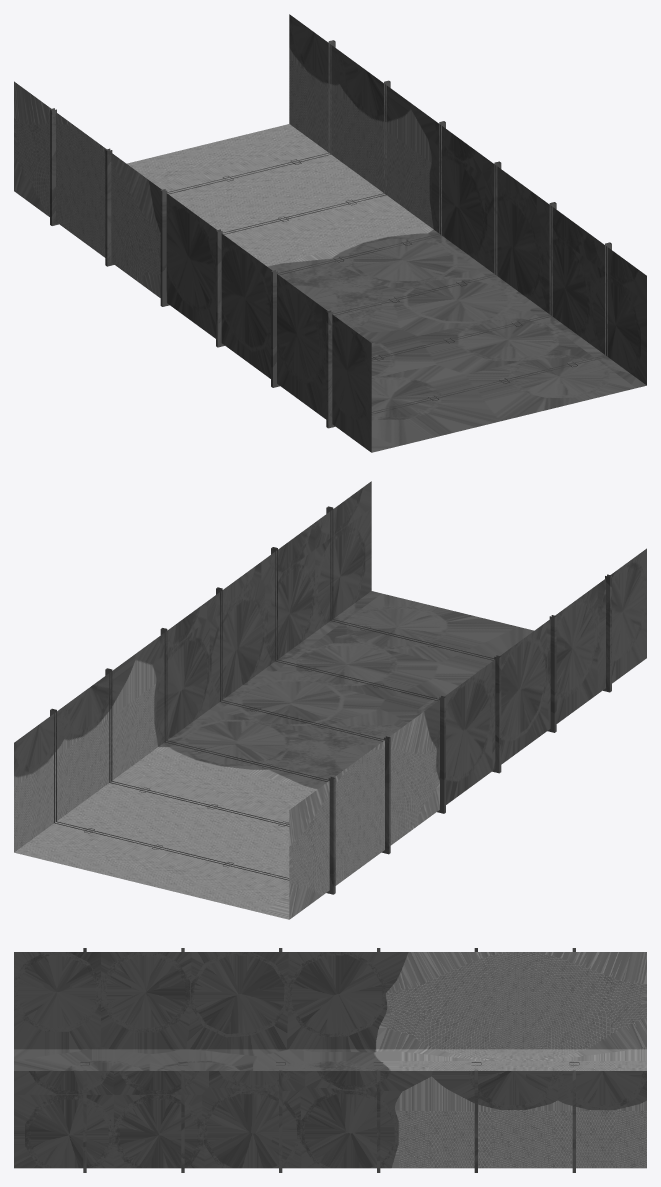
Rendered from vent.fbx.
3 views of the same model, one above another, from view 1: azimuth 30°, elevation 25°; view 2: azimuth 150°, elevation 25°; view 3: azimuth 270°, elevation 25° (orthographic). The views are drawn at different scales.
Parts seen in each view (by area): view 1: vent shaft; view 2: vent shaft; view 3: vent shaft.
Part boxes in pixels (x1,y1,x2,y2): vent shaft: (14, 14, 646, 452); vent shaft: (14, 481, 646, 919); vent shaft: (14, 948, 646, 1172).
Bounding box in the file's own units: 229 × 89.85 × 500.
